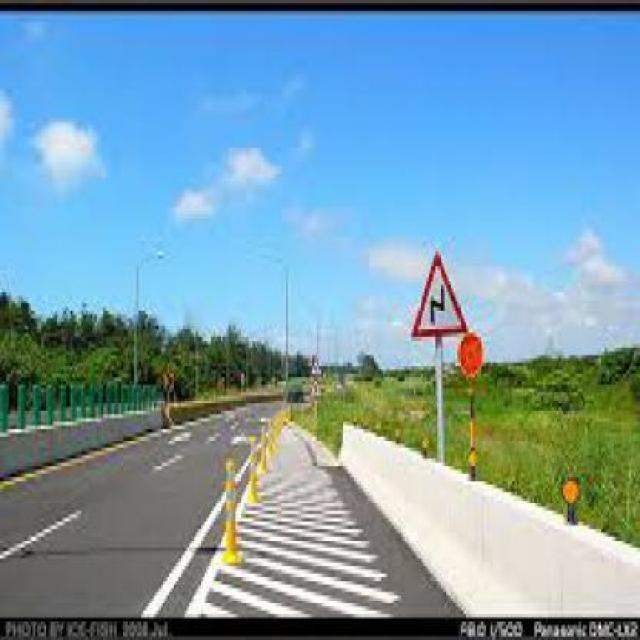warn_double_curve: (409, 251, 469, 337)
